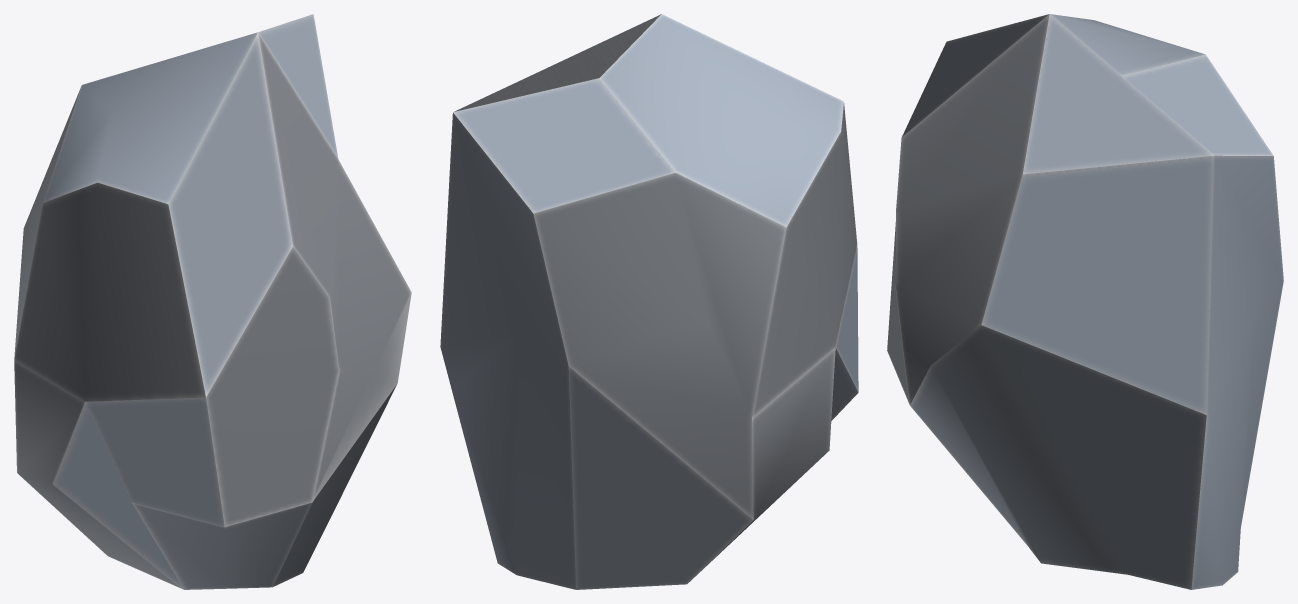
The model's file is Rock_Mesh_01.fbx.
The picture shows the model from 3 angles, left to right: view 1: azimuth 30°, elevation 25°; view 2: azimuth 150°, elevation 25°; view 3: azimuth 270°, elevation 25°; orthographic projection. The views are drawn at different scales.
Visible parts, largest first — view 1: Rock_01; view 2: Rock_01; view 3: Rock_01.
Part boxes in pixels (x1,y1,x2,y2): Rock_01: (14, 14, 411, 589); Rock_01: (440, 14, 858, 589); Rock_01: (887, 14, 1283, 589).
Size of the model in its own units: 1.1 by 1.64 by 1.11.
